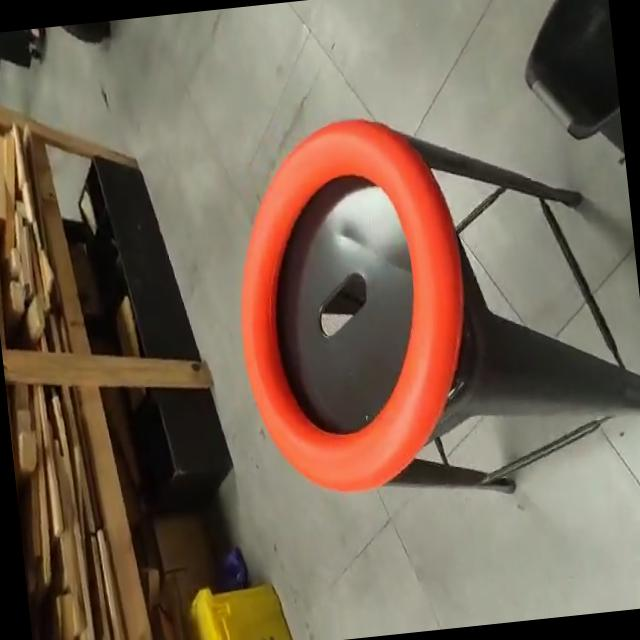note: (218, 102, 492, 506)
